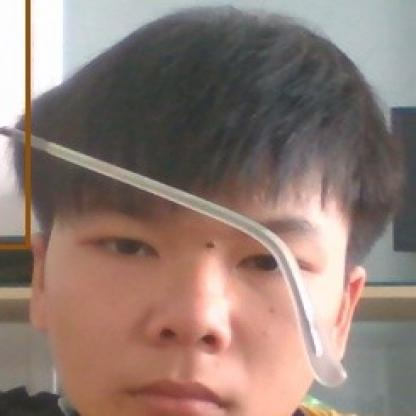not trash: (1, 110, 348, 388)
